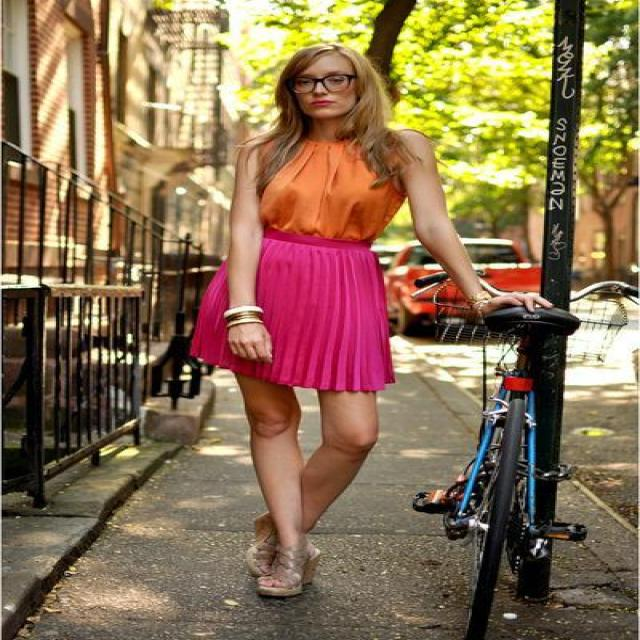shirt: (255, 141, 410, 247)
shoe: (242, 530, 323, 594)
skirt: (190, 236, 398, 394)
